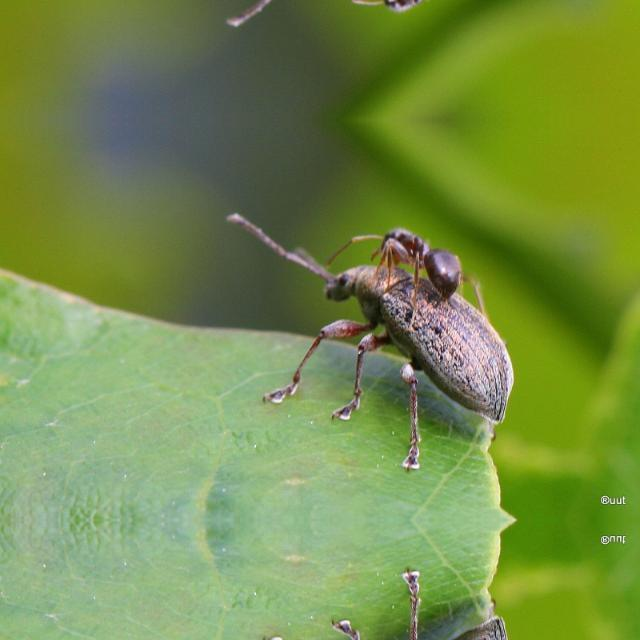Formica: (368, 210, 482, 310), (366, 0, 480, 26)
